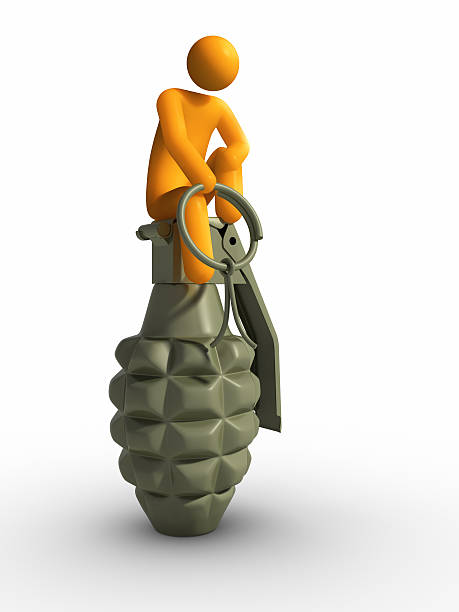e1: (112, 183, 283, 538)
